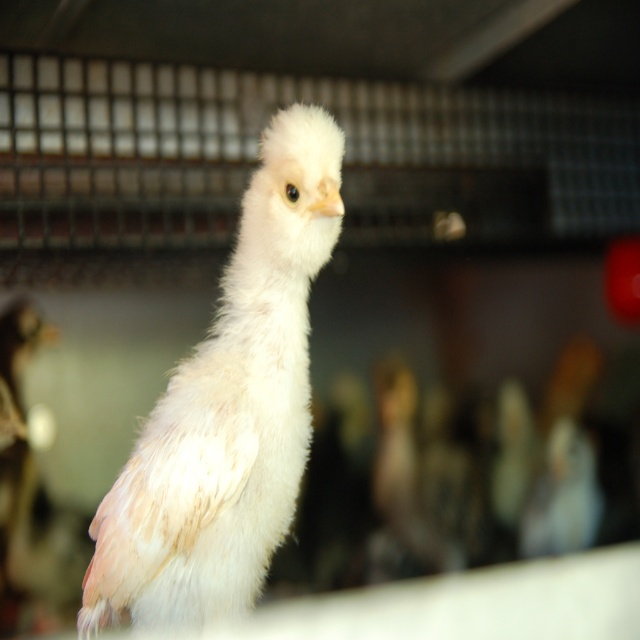Chicken: (71, 102, 343, 639)
